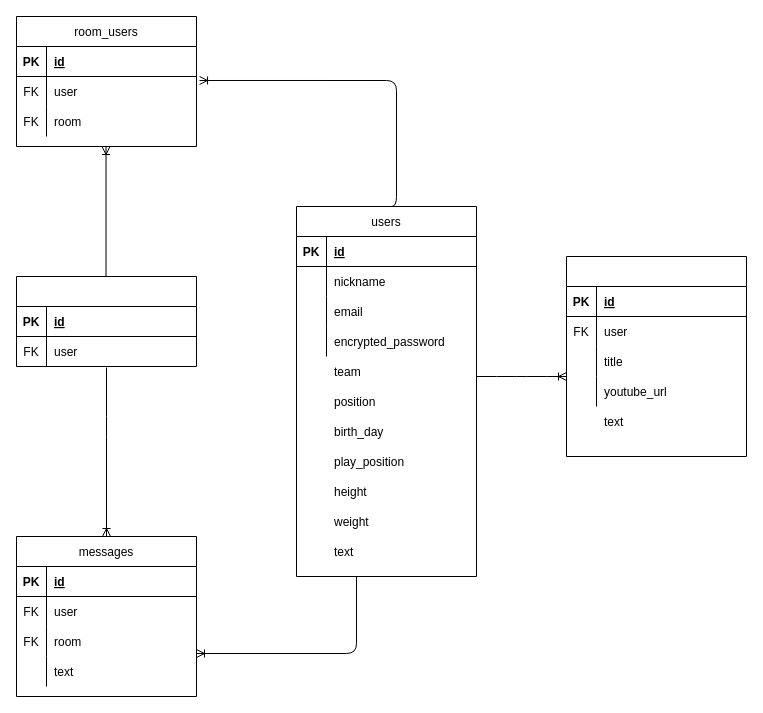
Image size: 763x713. Some labels were removed from this diagram. The shapes that lost their labels are listed below. From the top down, each one's box as (x1, y1, x2, y2) in pixels, then its label:
(16, 276, 196, 366): rooms
(566, 256, 746, 456): posts
